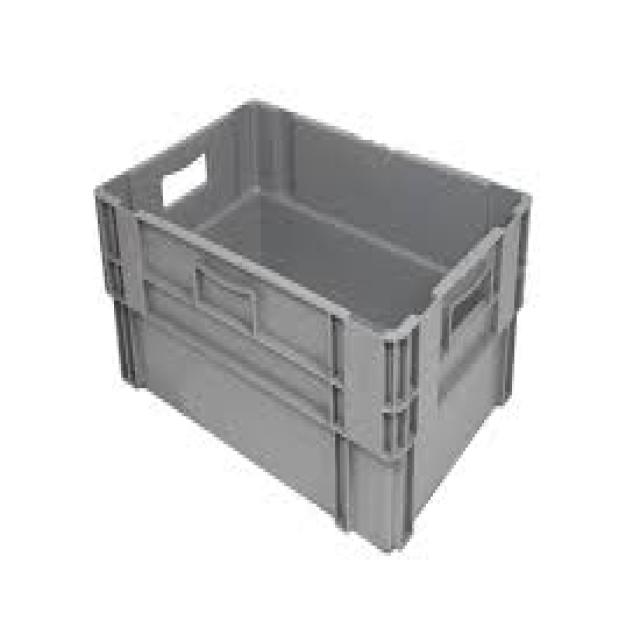basket: (15, 59, 577, 572)
